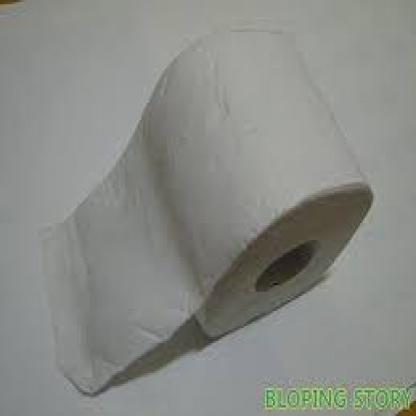tissue: (23, 15, 382, 393)
